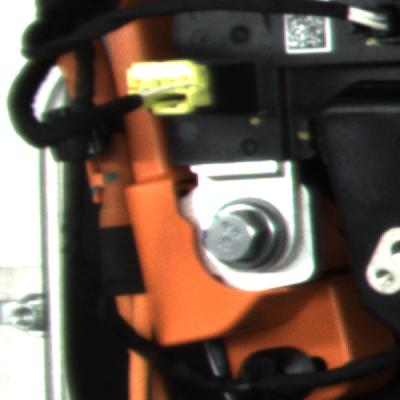nut_b: (187, 183, 304, 292)
